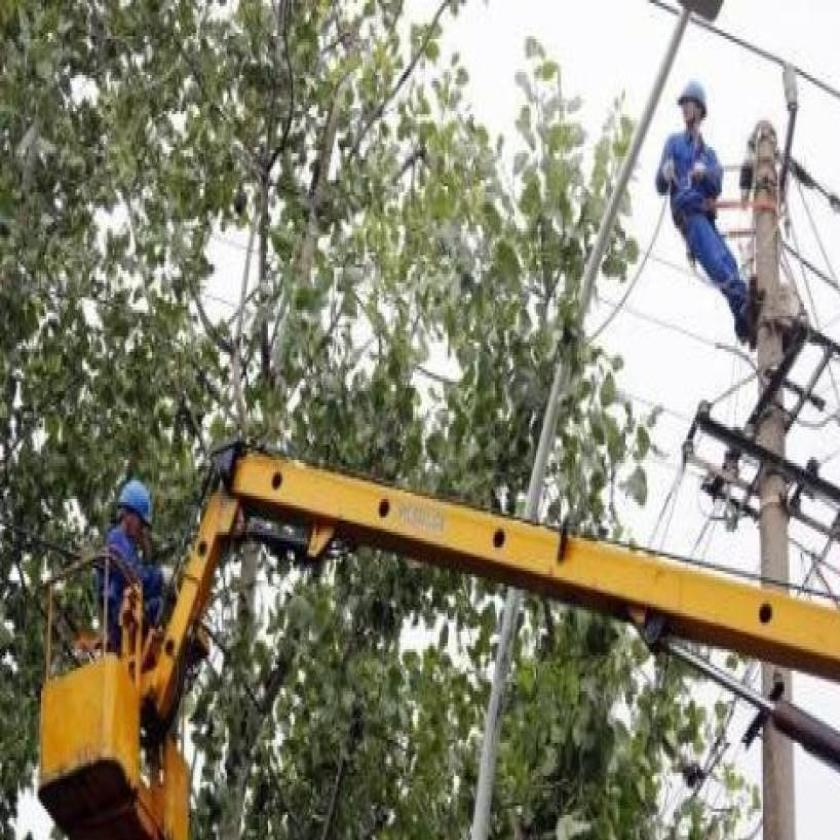Con_casco: (114, 473, 156, 549), (675, 79, 712, 135)
